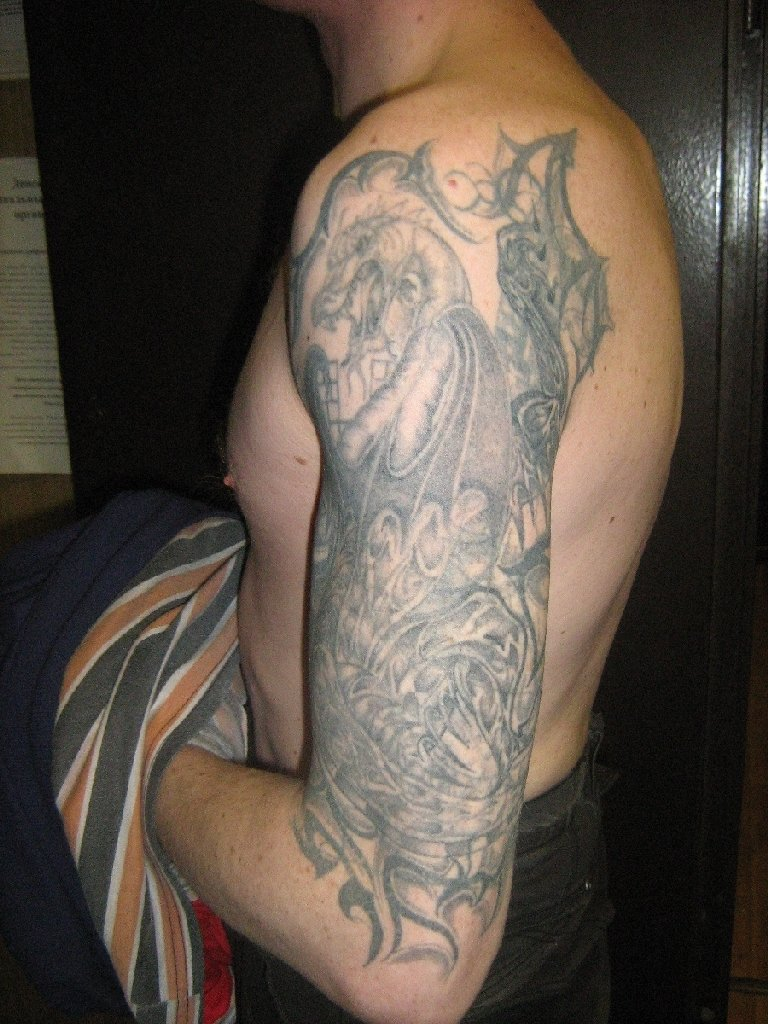tatu6_drakon: (278, 115, 614, 1024)
